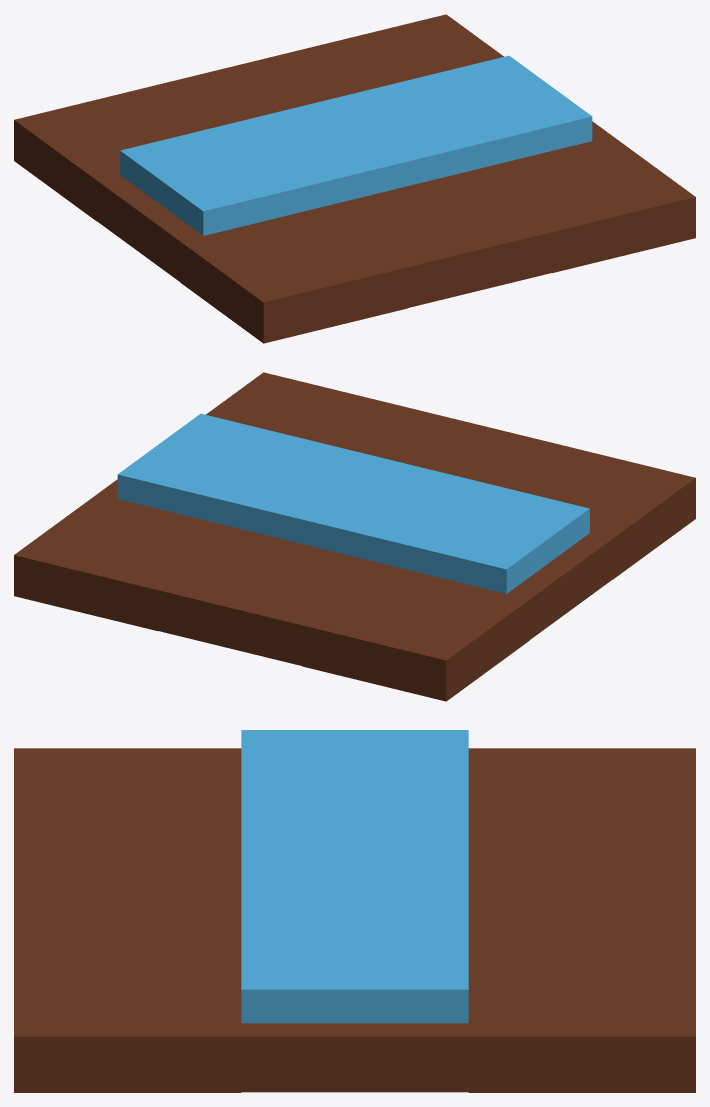
File: RestarFuego.fbx
3 renders of one model, top to bottom at view 1: azimuth 30°, elevation 25°; view 2: azimuth 150°, elevation 25°; view 3: azimuth 270°, elevation 25°, orthographic. The views are drawn at different scales.
Parts seen in each view (by area): view 1: Cube.001; view 2: Cube.001; view 3: Cube.001.
Boxes of the visible parts, box(x1,y1,x2,y2) form: Cube.001: box(14, 14, 695, 343); Cube.001: box(14, 372, 695, 701); Cube.001: box(14, 730, 695, 1092).
Bounding box in the file's own units: 200 × 29.04 × 200.
